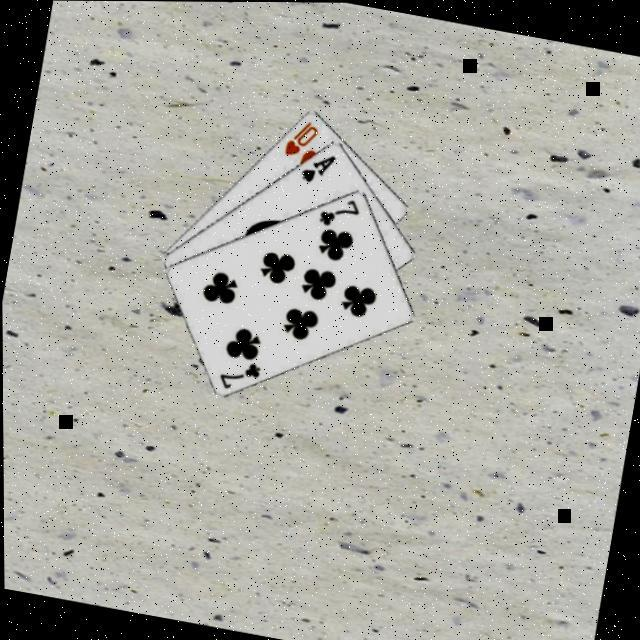10H: (278, 115, 320, 164)
7C: (210, 356, 262, 398), (311, 192, 361, 234)
AS: (293, 148, 336, 190)
